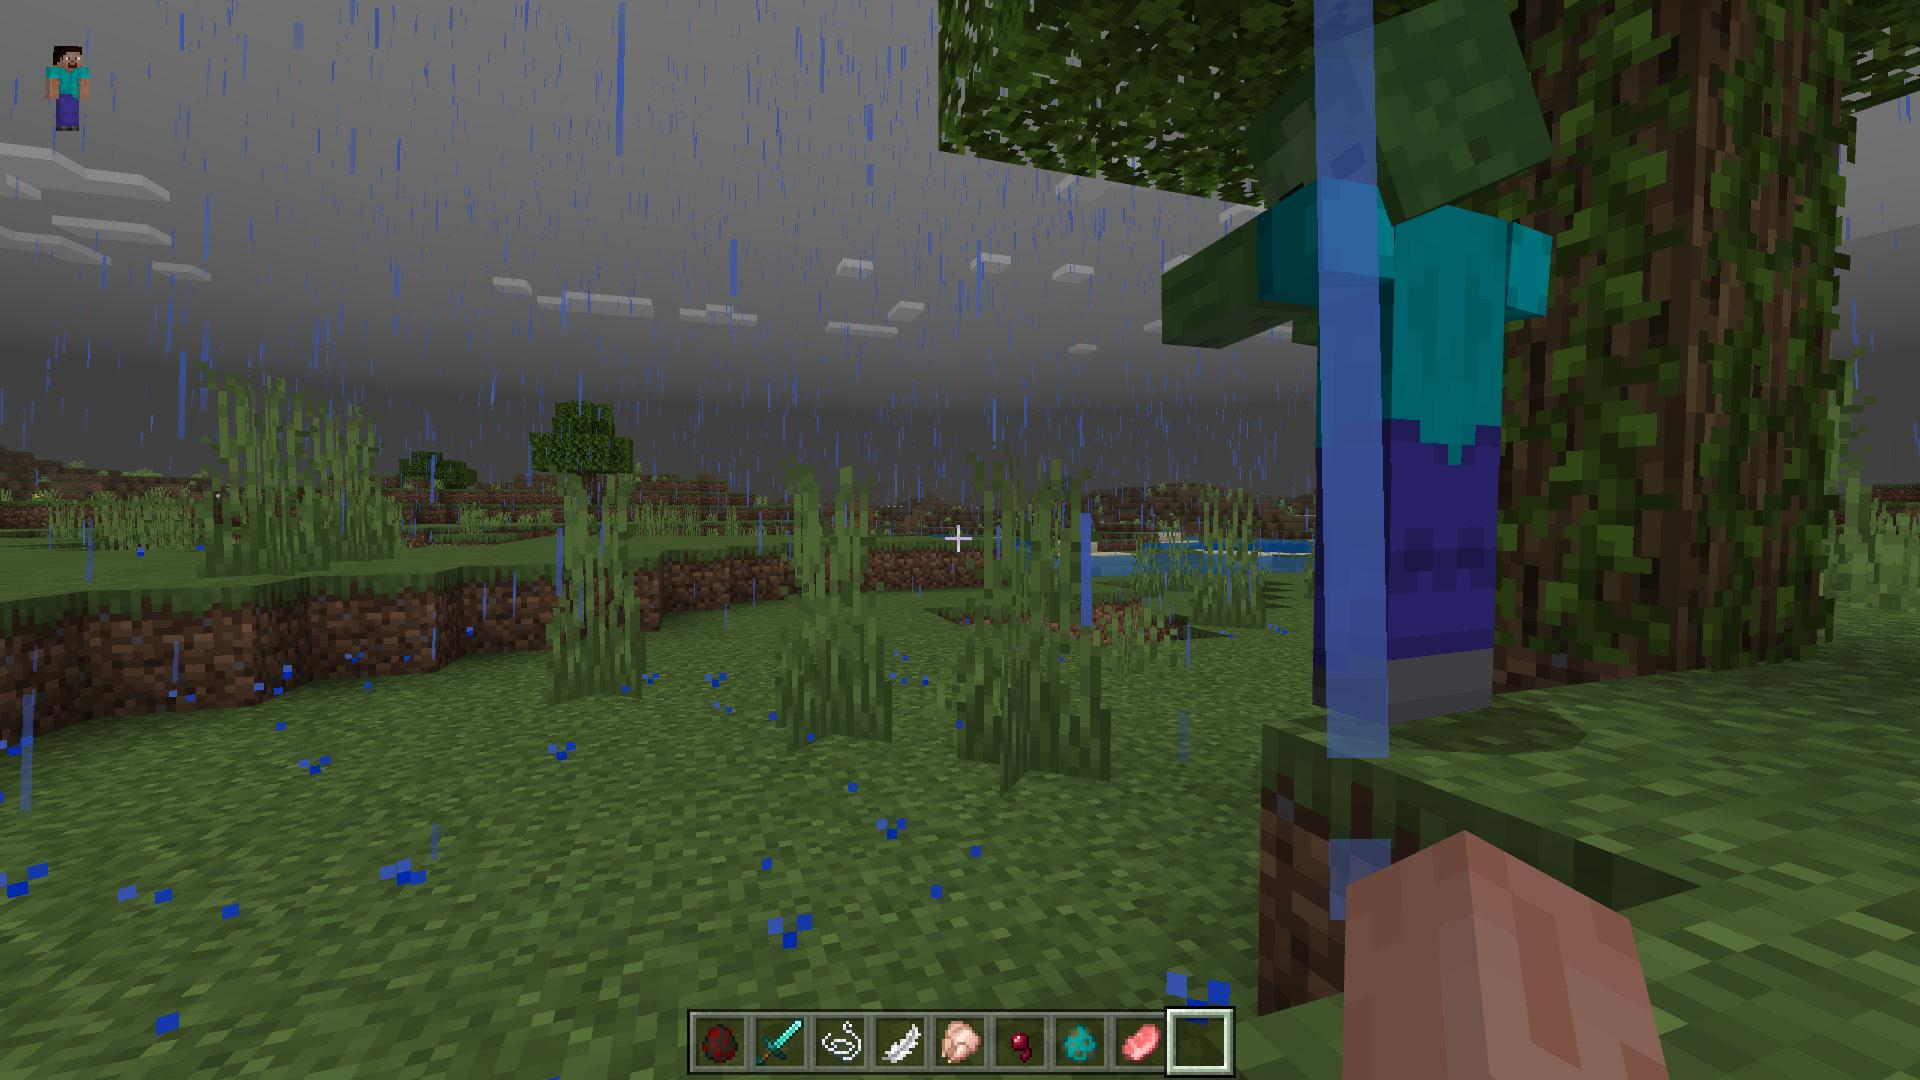zombie: (1158, 0, 1555, 724)
